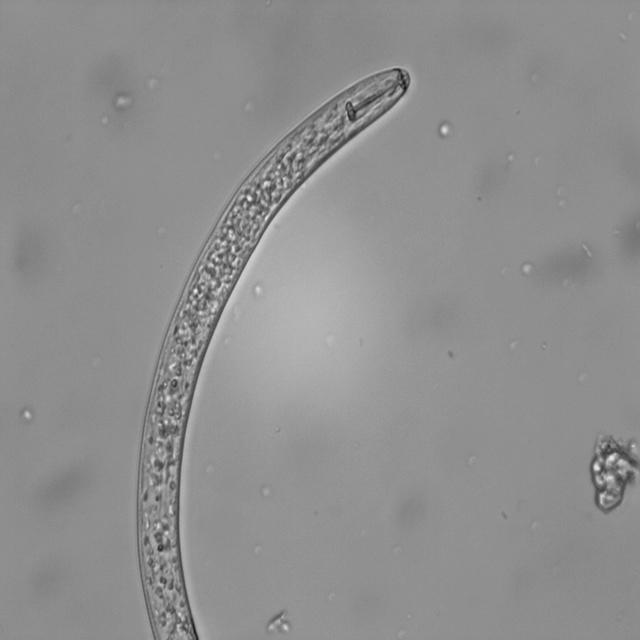Helicotylenchus: (113, 58, 425, 640)
